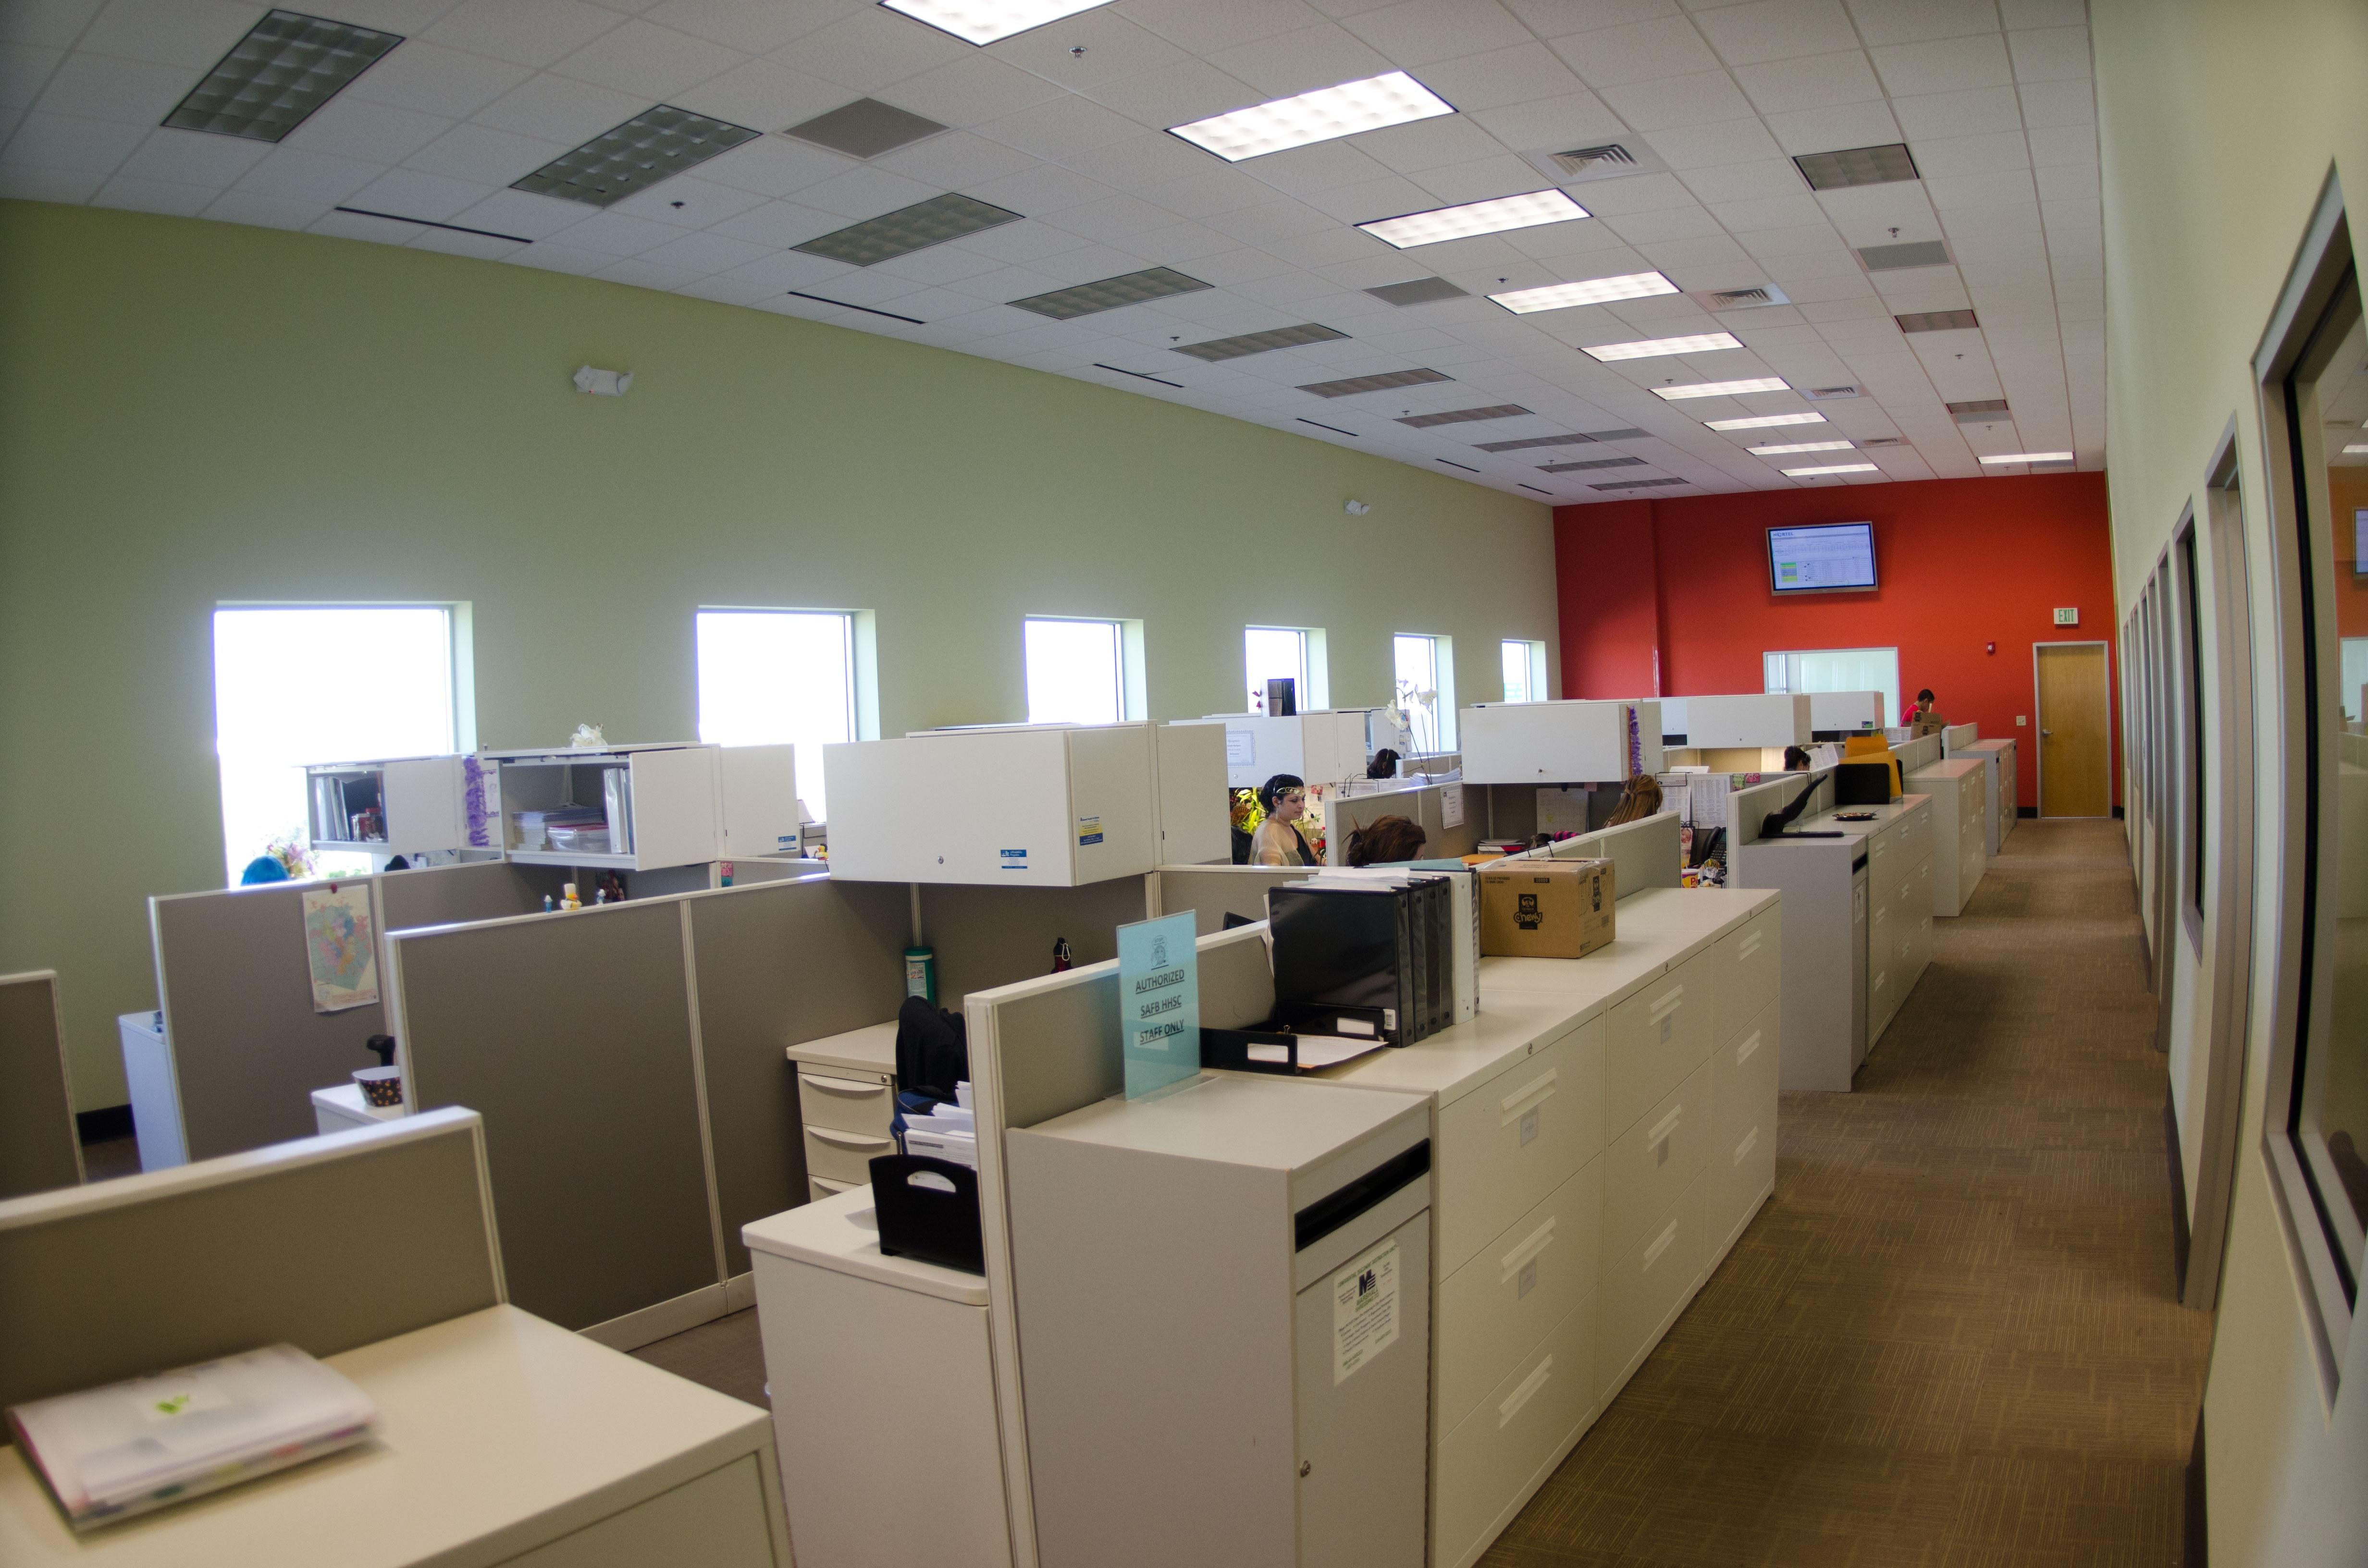AIO PC-Monitor-TV: (1764, 520, 1880, 595)
Filing Cabinet: (1430, 885, 1780, 1568), (793, 1055, 898, 1207)
